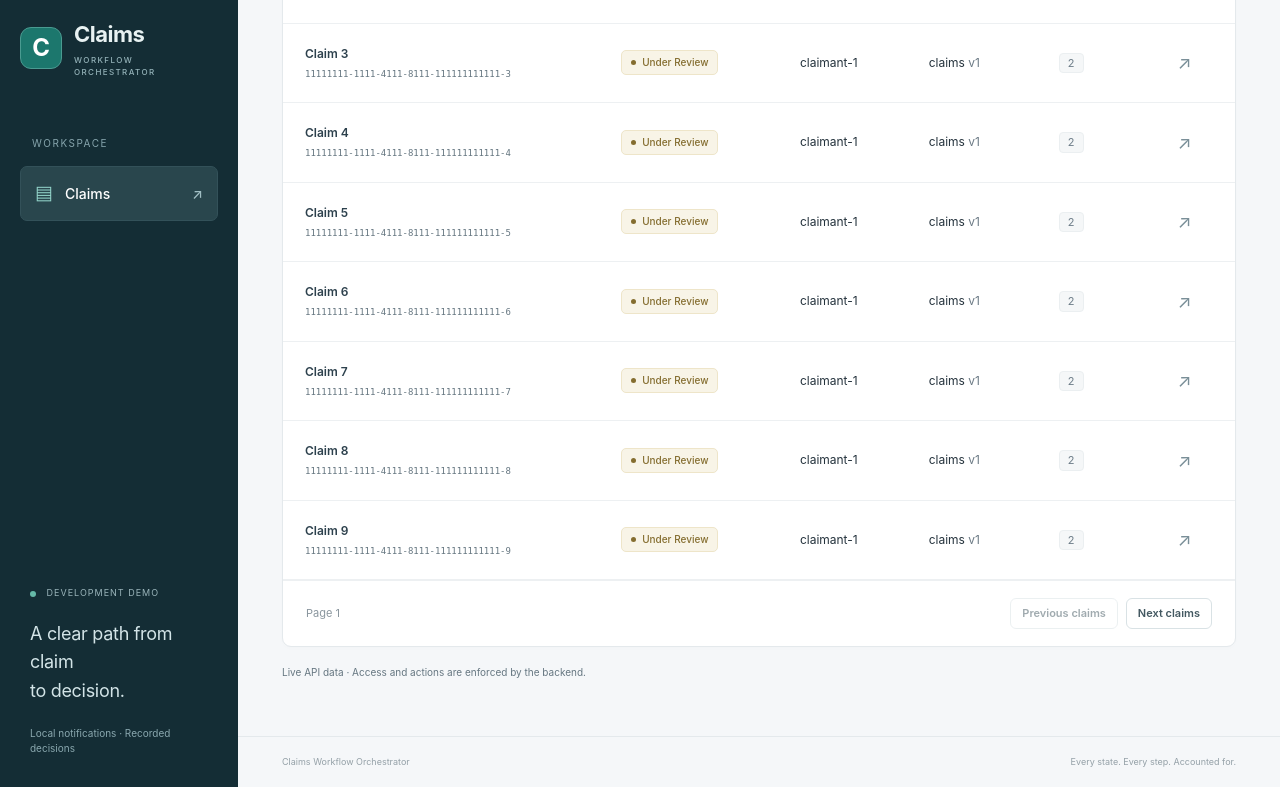
claims demo workspace › paginates claim API data with bounded offsets
(page scrolled)
Click the button "Next claims".
click(1169, 614)  # box 1126,598 -> 1212,629
(page scrolled)
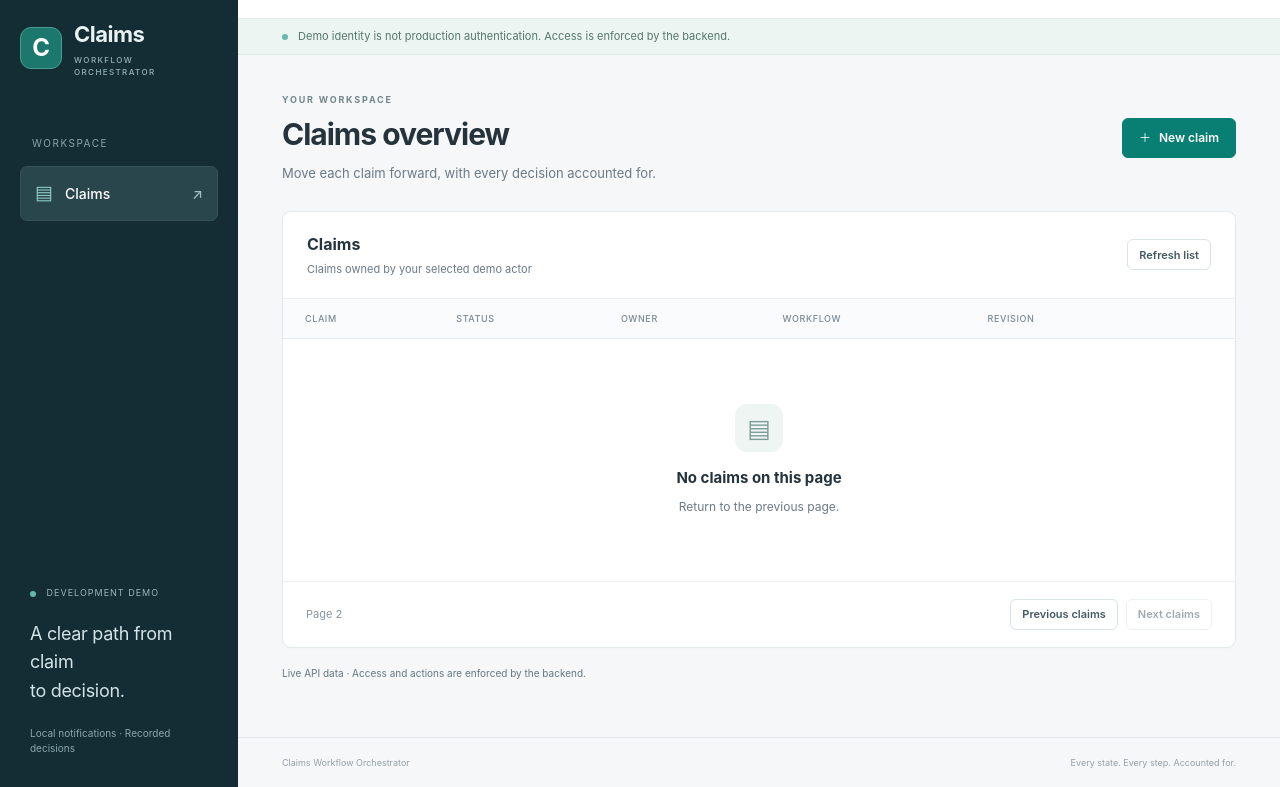
Expected: the text "Page 2" is shown, 306,606 -> 342,622
